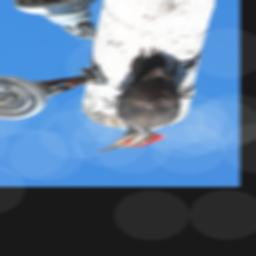Woodpecker: (89, 47, 201, 154)
